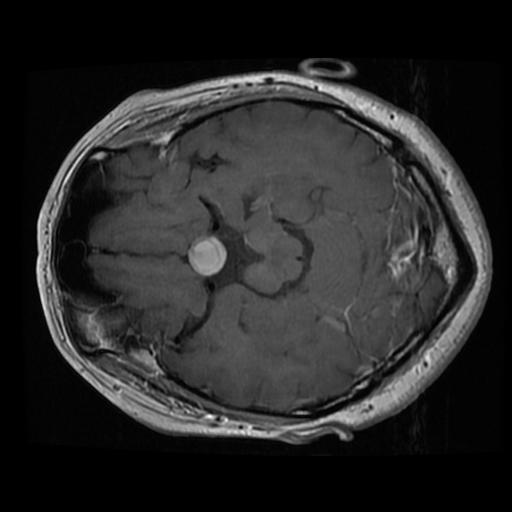pituitary tumour: (187, 237, 227, 277)
